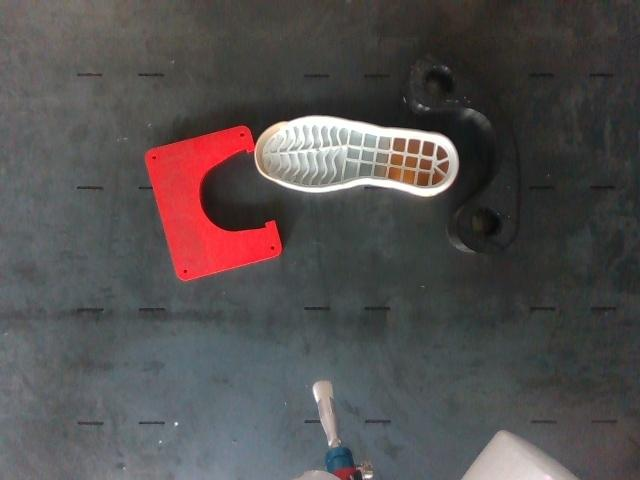shoes: (256, 117, 456, 189)
